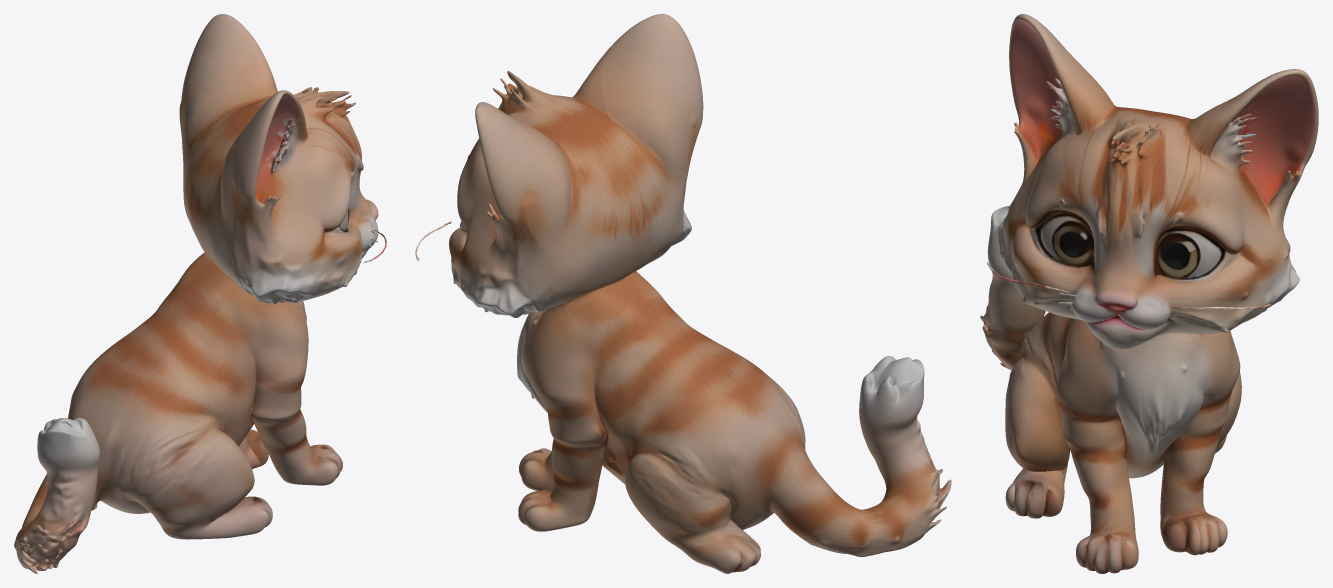
Rendered from f253b917-a732-4c63-b72e-8e18af81fb8a_pbr.glb.
The picture shows the model from 3 angles, left to right: view 1: azimuth 30°, elevation 25°; view 2: azimuth 150°, elevation 25°; view 3: azimuth 270°, elevation 25°; orthographic projection. The views are drawn at different scales.
Visible parts, largest first — view 1: tripo_node_f253b917-a732-4c63-b72e-8e18af81fb8a; view 2: tripo_node_f253b917-a732-4c63-b72e-8e18af81fb8a; view 3: tripo_node_f253b917-a732-4c63-b72e-8e18af81fb8a.
Boxes of the visible parts, <box> form: tripo_node_f253b917-a732-4c63-b72e-8e18af81fb8a: <box>14,14,386,573</box>; tripo_node_f253b917-a732-4c63-b72e-8e18af81fb8a: <box>415,14,951,573</box>; tripo_node_f253b917-a732-4c63-b72e-8e18af81fb8a: <box>980,14,1318,573</box>.
Size of the model in its own units: 0.9606 by 1 by 0.5961.
Materials: 1 (1 with a texture image).
